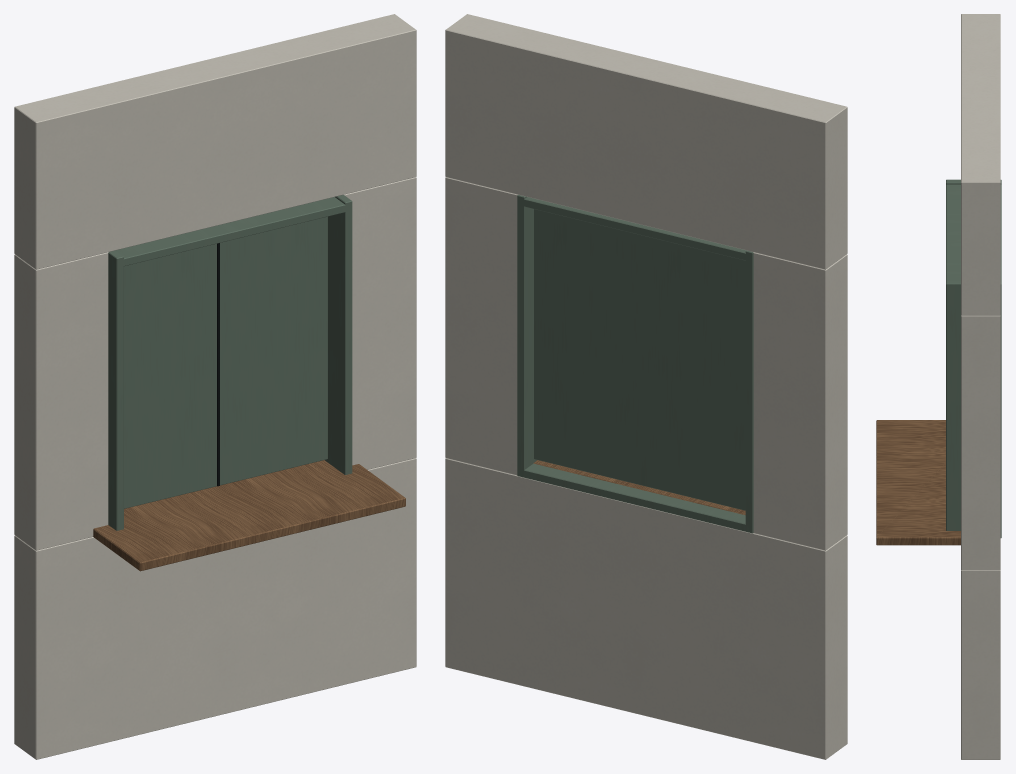
The model's file is service_hatch_2m.glb.
3 views of the same model, side by side, from view 1: azimuth 30°, elevation 25°; view 2: azimuth 150°, elevation 25°; view 3: azimuth 270°, elevation 25° (orthographic). The views are drawn at different scales.
Parts seen in each view (by area): view 1: service_hatch_2m; view 2: service_hatch_2m; view 3: service_hatch_2m.
Part boxes in pixels (x1,y1,x2,y2): service_hatch_2m: [14, 14, 416, 759]; service_hatch_2m: [445, 14, 847, 759]; service_hatch_2m: [876, 14, 1001, 759].
Size of the model in its own units: 2 by 3.2 by 0.63.
Materials: 4 (4 with a texture image).
